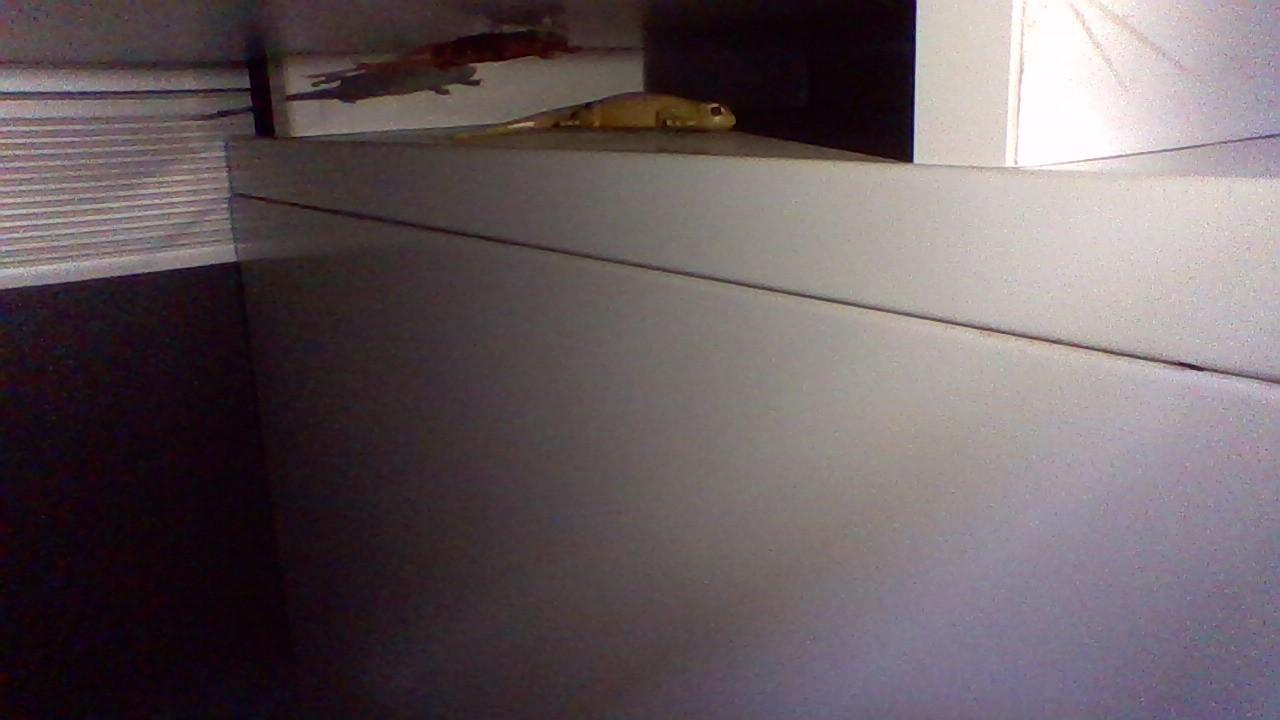cockroach: (386, 16, 573, 64)
lizard: (473, 87, 738, 142)
